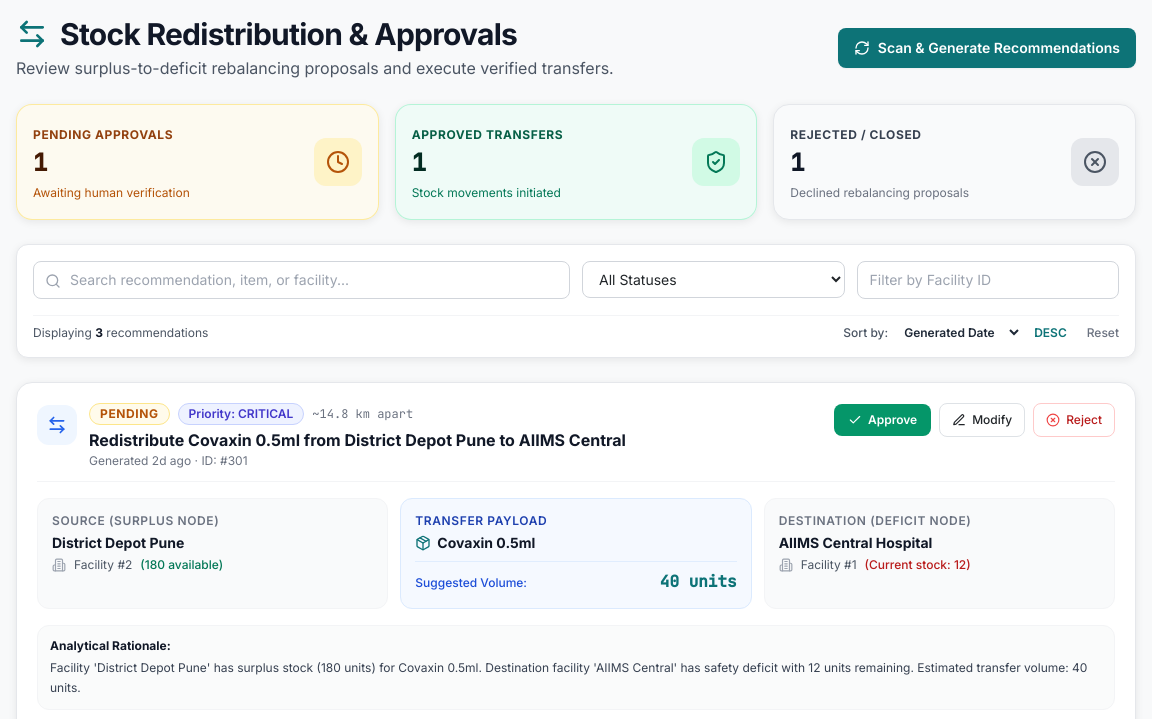
Test: PHASE 23 — Redistribution & Approval Workflow › Rejection Workflow › opens rejection dialog and updates recommendation to REJECTED with notes
Step 1. Click the button with test id "reject-btn-301" → (1074, 420), box [1033,403,1115,437]
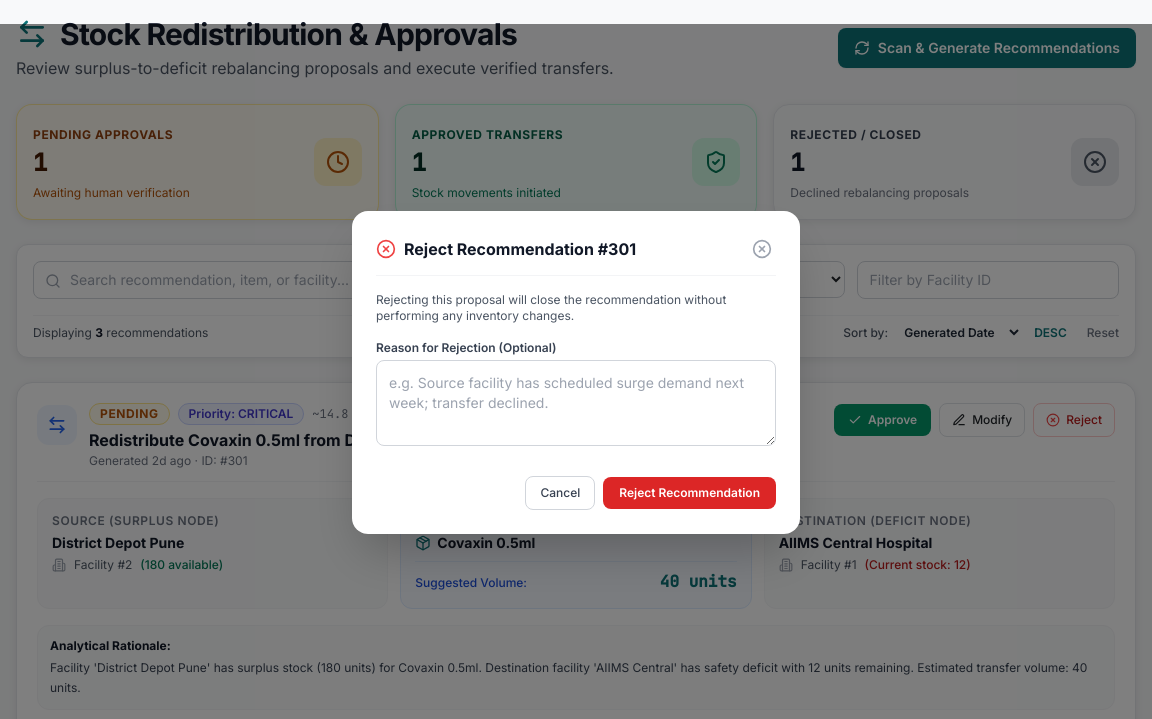
Result: the heading "Reject Recommendation #301" is shown at [376,236,636,260]
Step 2. Replace the text in the text box with test id "rejection-notes-input" with "Alternative local supplier available." → (576, 402), box [376,360,776,446]
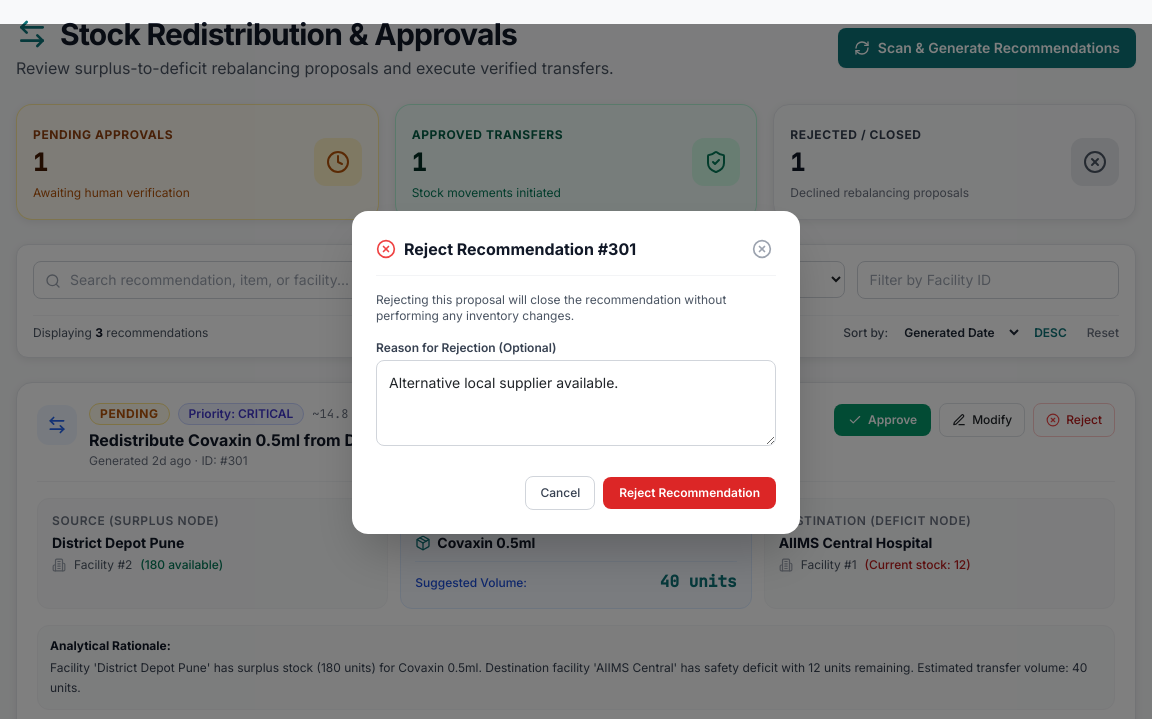
Step 3. Click the button with test id "confirm-rejection-submit" → (690, 492), box [603,476,776,508]
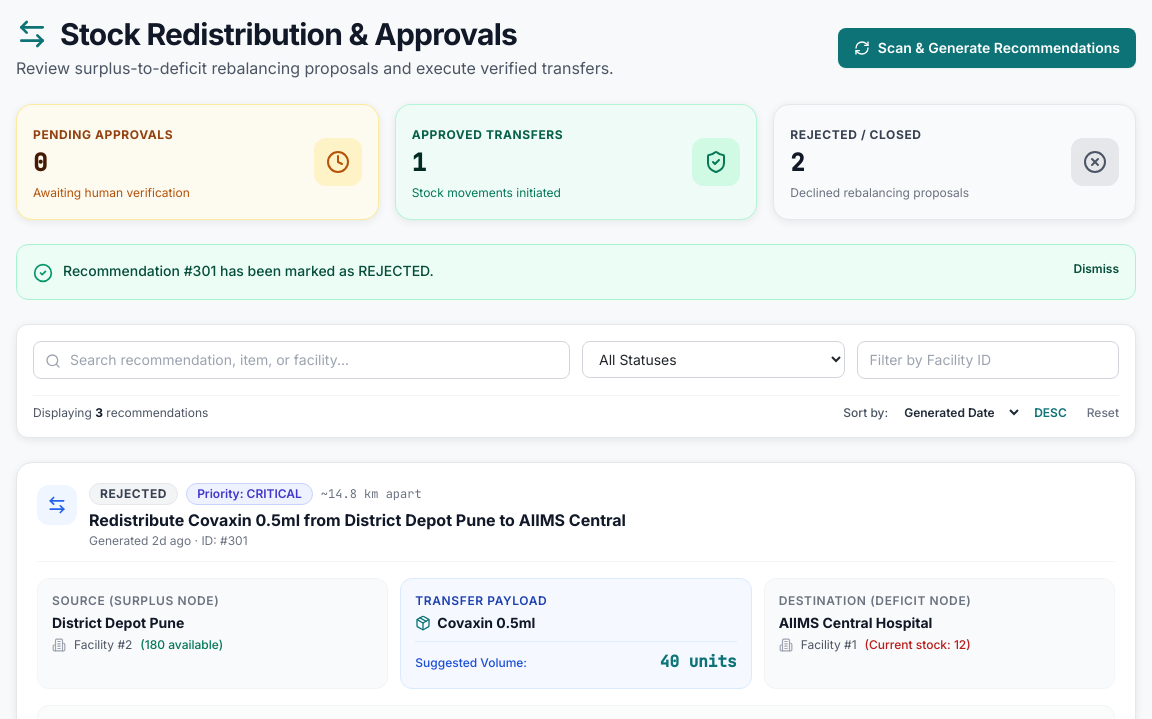
Result: the element with test id "action-feedback-banner" shows "marked as REJECTED" at [63,262,434,279]
